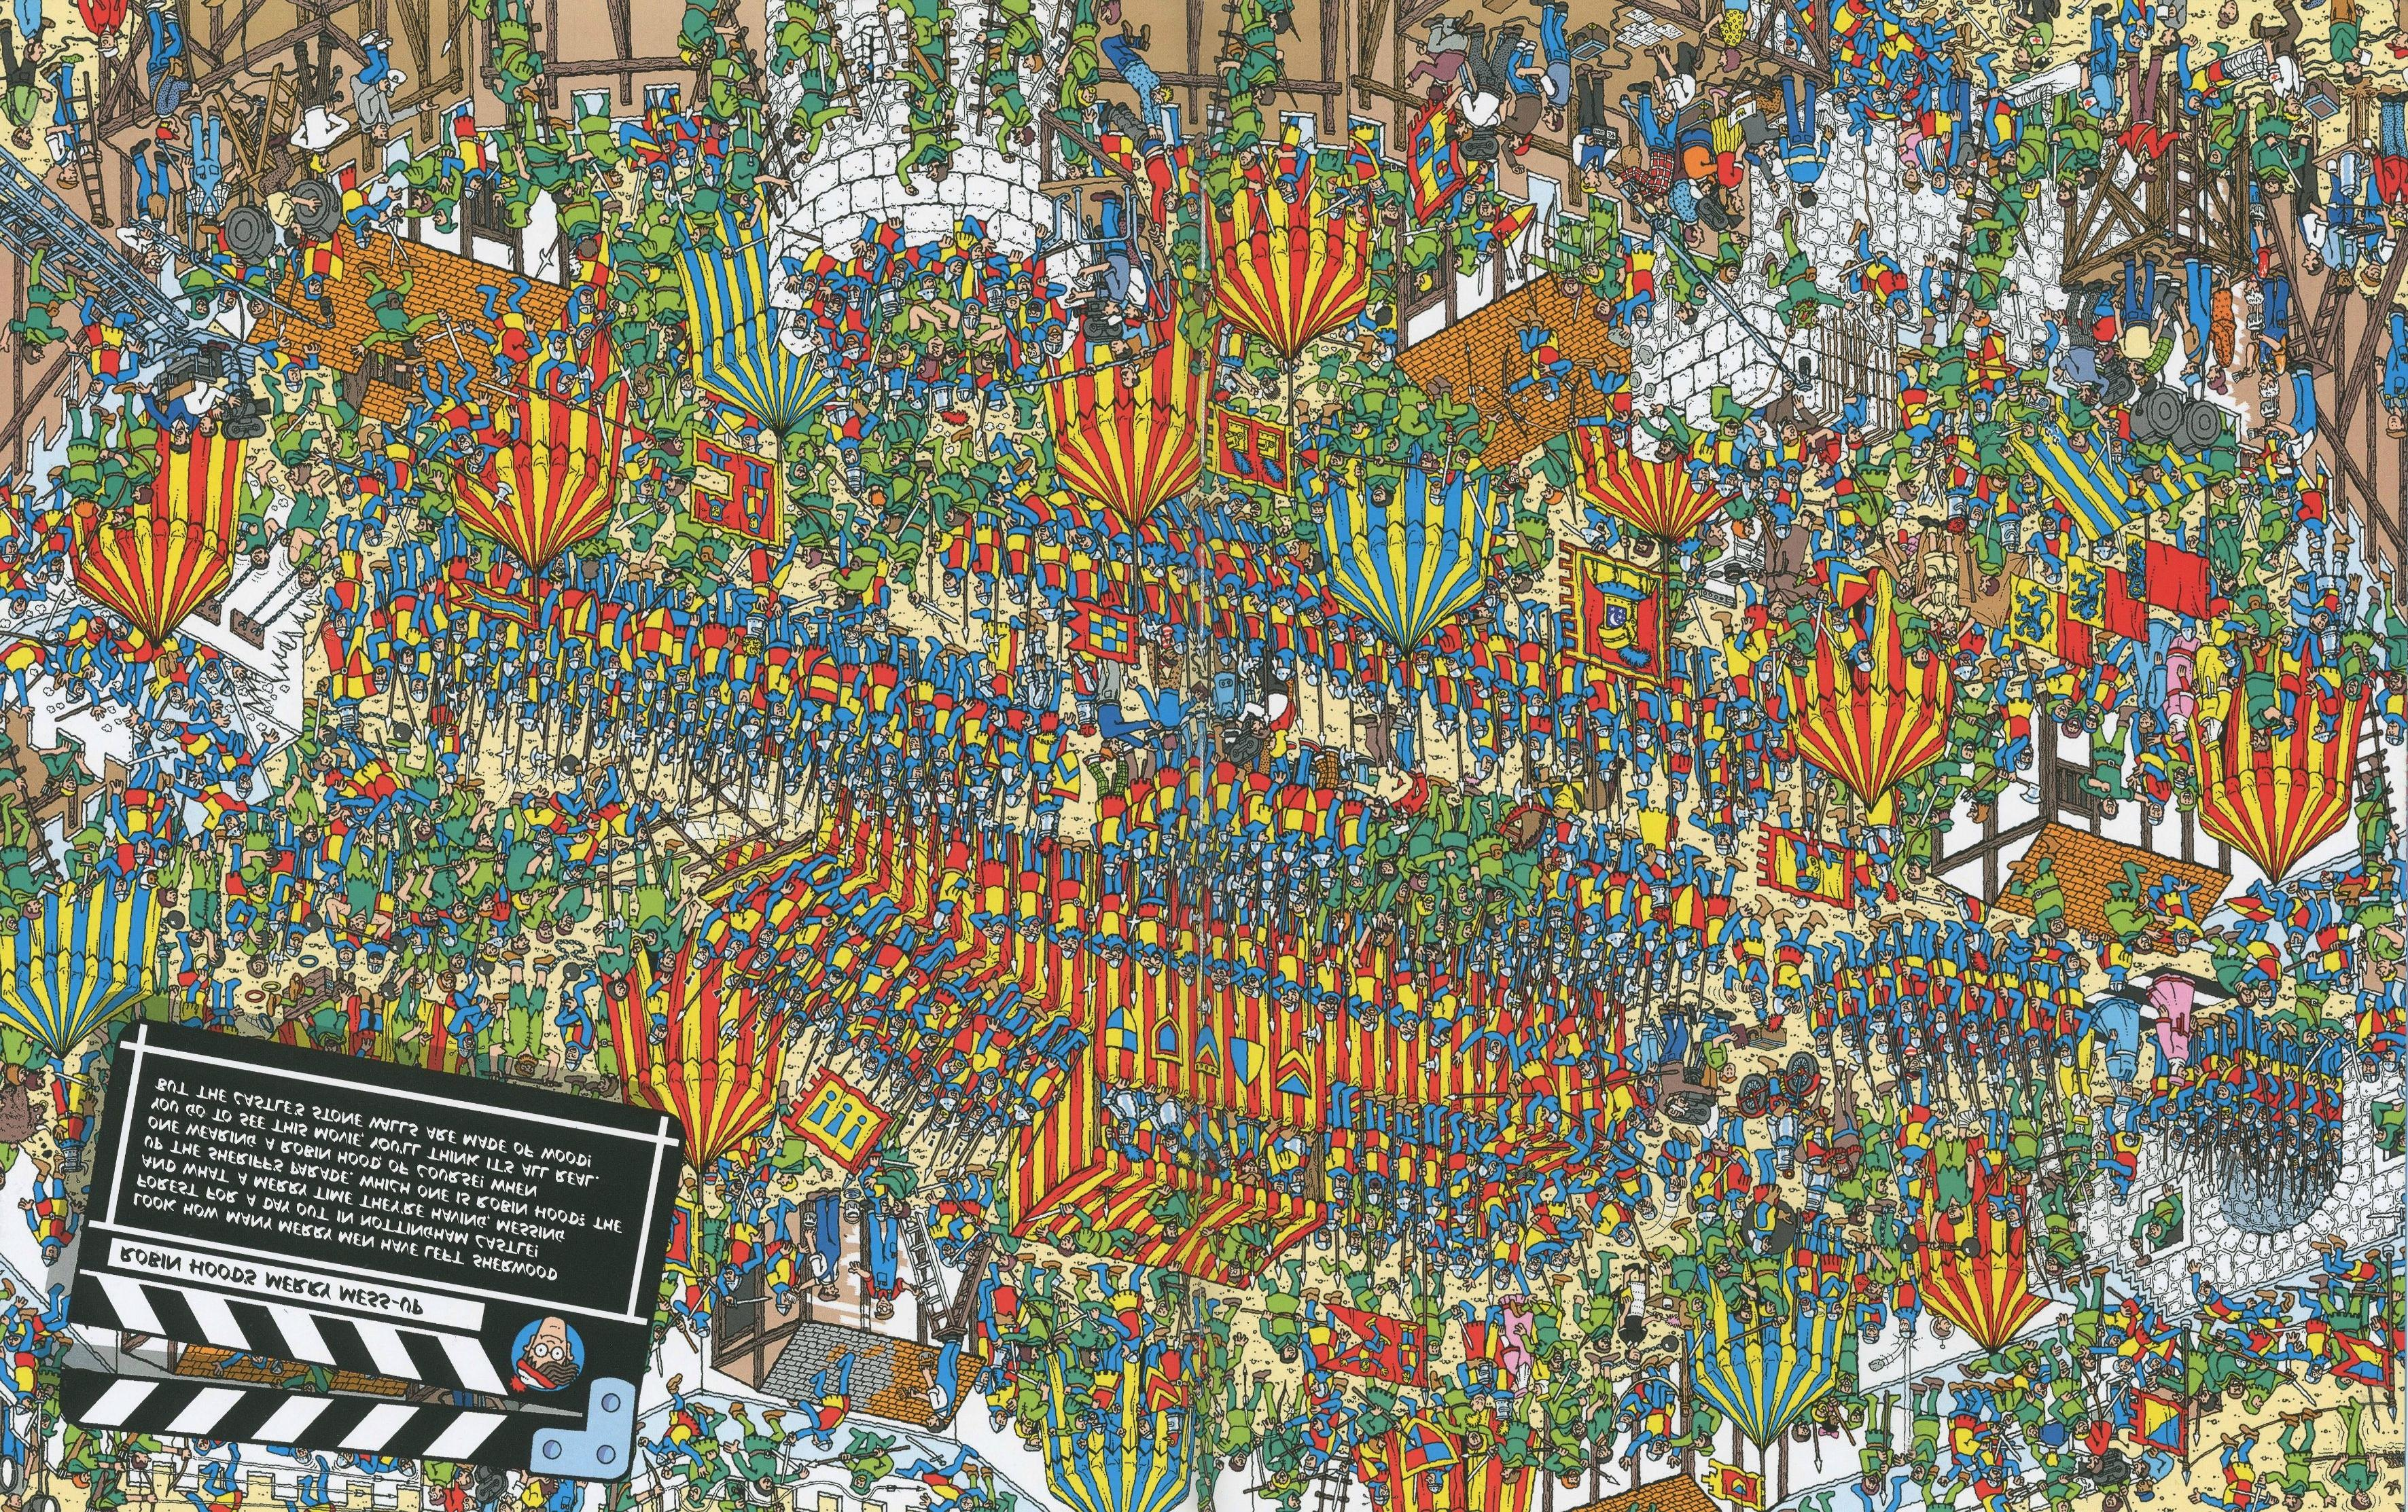waldos: (1497, 456, 1523, 493)
